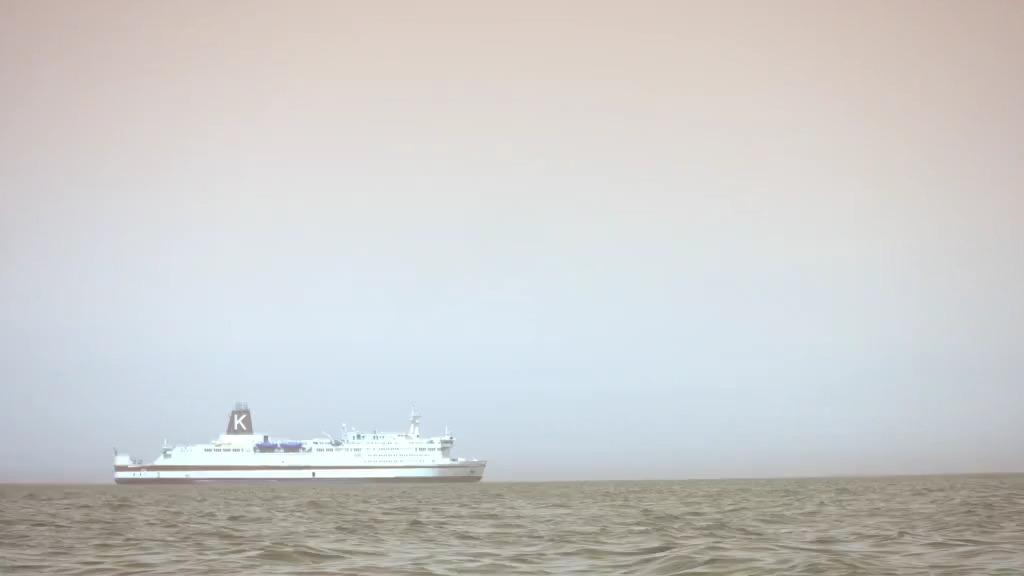PassengerShip: (104, 400, 494, 490)
